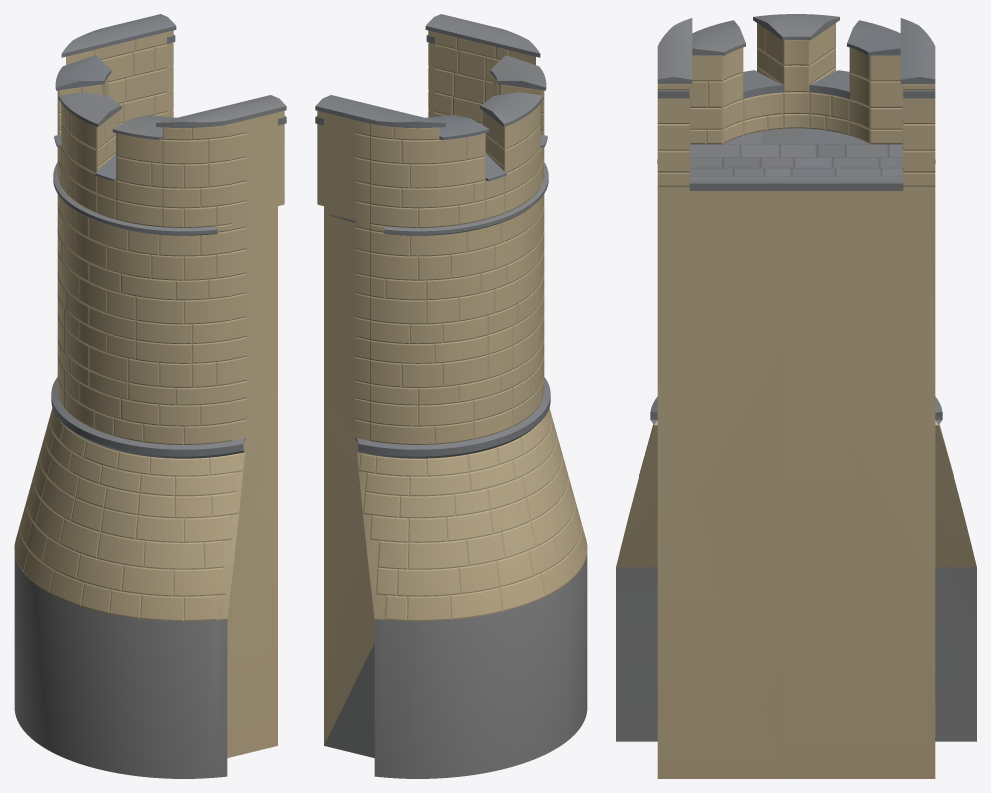
3 views of the same model, side by side, from view 1: azimuth 30°, elevation 25°; view 2: azimuth 150°, elevation 25°; view 3: azimuth 270°, elevation 25° (orthographic). The views are drawn at different scales.
Parts seen in each view (by area): view 1: Mesh_WallTowerD_ck-limestone-ashlar, Mesh_WallTowerD_ck-rubble, Mesh_WallTowerD_ck-granite-ashlar; view 2: Mesh_WallTowerD_ck-limestone-ashlar, Mesh_WallTowerD_ck-rubble, Mesh_WallTowerD_ck-granite-ashlar; view 3: Mesh_WallTowerD_ck-limestone-ashlar, Mesh_WallTowerD_ck-granite-ashlar, Mesh_WallTowerD_ck-rubble.
Boxes of the visible parts, x1,y1,x2,y2 form: Mesh_WallTowerD_ck-limestone-ashlar: (14, 30, 284, 757); Mesh_WallTowerD_ck-rubble: (14, 553, 227, 778); Mesh_WallTowerD_ck-granite-ashlar: (51, 14, 286, 458); Mesh_WallTowerD_ck-limestone-ashlar: (317, 30, 587, 744); Mesh_WallTowerD_ck-rubble: (324, 553, 587, 778); Mesh_WallTowerD_ck-granite-ashlar: (315, 14, 550, 458); Mesh_WallTowerD_ck-limestone-ashlar: (616, 23, 976, 778); Mesh_WallTowerD_ck-granite-ashlar: (650, 14, 942, 424); Mesh_WallTowerD_ck-rubble: (616, 567, 976, 741).
Size of the model in its own units: 4.45 by 14.6 by 6.76.
